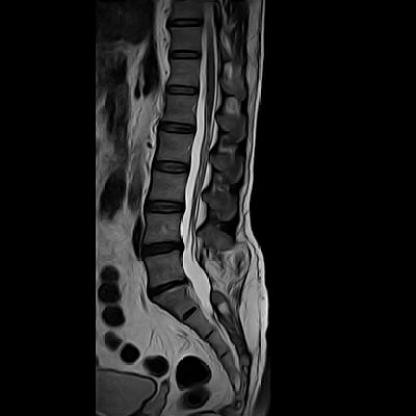Disc Bulgerotation: (140, 238, 183, 260), (147, 279, 191, 295)
